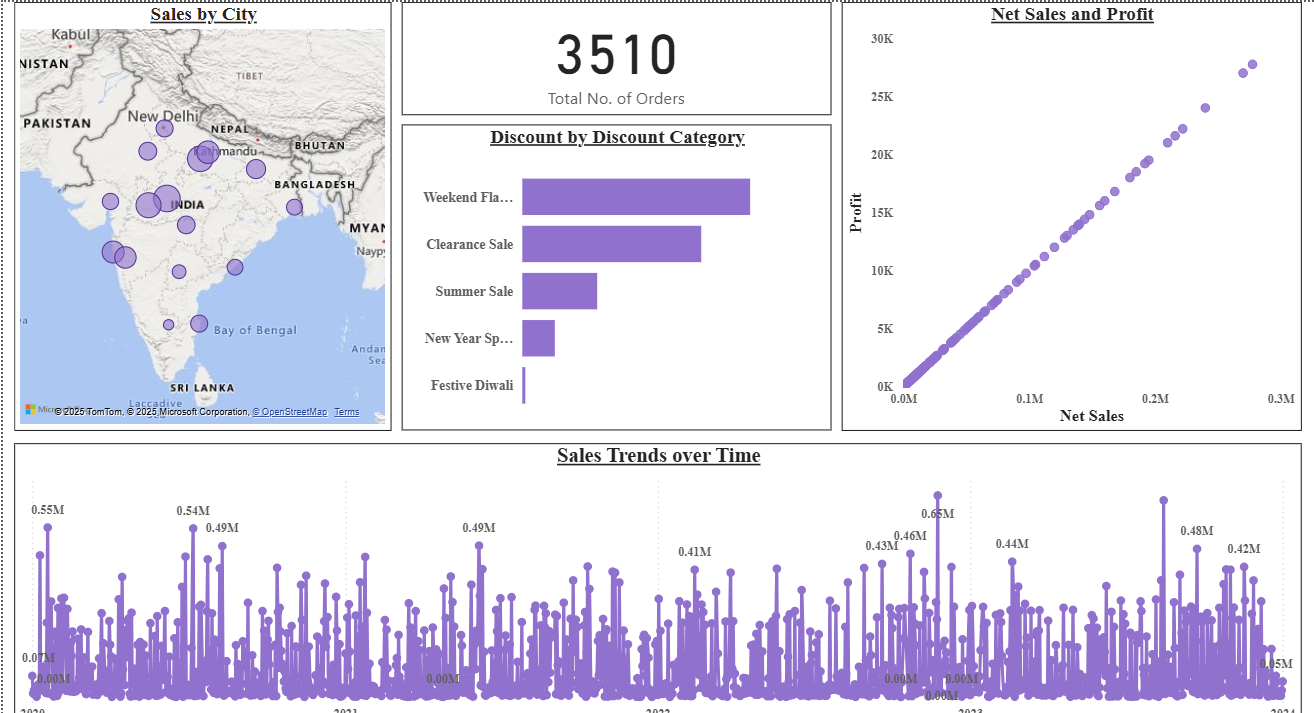

The dashboard page shown, as its layout file describes it:
{"tool":"powerbi","page":{"name":"Overview ","canvas":[1280,720],"ordinal":1},"visuals":[{"type":"lineChart","title":"Sales Trends over Time","fields":{"Y":["Sum(Facts Table.Net Sales   )"],"Category":["Facts Table.Date (dd/mm/yyyy).Variation.Date Hierarchy.Year"]},"box":[11,430.4,1255.8,280],"z":0},{"type":"scatterChart","fields":{"X":["Facts Table.Net Sales   "],"Y":["Facts Table.Profit"]},"box":[818.1,0,448.8,418.2],"z":1000},{"type":"barChart","title":" Discount by Discount Category","fields":{"Y":["Avg(Facts Table.Discount)"],"Category":["Dim Promotion.Promotion Name"]},"box":[388.9,119.8,419.4,298.4],"z":2000},{"type":"map","title":"Sales by City","fields":{"Category":["Dim Customers.City"],"Size":["Sum(Facts Table.Net Sales   )"]},"box":[11,0,368.1,418.2],"z":3000},{"type":"card","fields":{"Values":["Count(Facts Table.Order ID)"]},"box":[388.9,0,419.4,110.1],"z":4000}]}

Visuals, with their boxes on the page's 1280x720 design canvas (x1, y1, x2, y2). These are canvas units, not pixel positions in the 1314x713 screenshot, which may show the page scaled, cropped or inside an application window:
"Sales Trends over Time" lineChart: <region>11, 430, 1267, 710</region>
scatterChart - Facts Table.Net Sales    x Facts Table.Profit: <region>818, 0, 1267, 418</region>
" Discount by Discount Category" barChart: <region>389, 120, 808, 418</region>
"Sales by City" map: <region>11, 0, 379, 418</region>
card - Count(Facts Table.Order ID): <region>389, 0, 808, 110</region>
